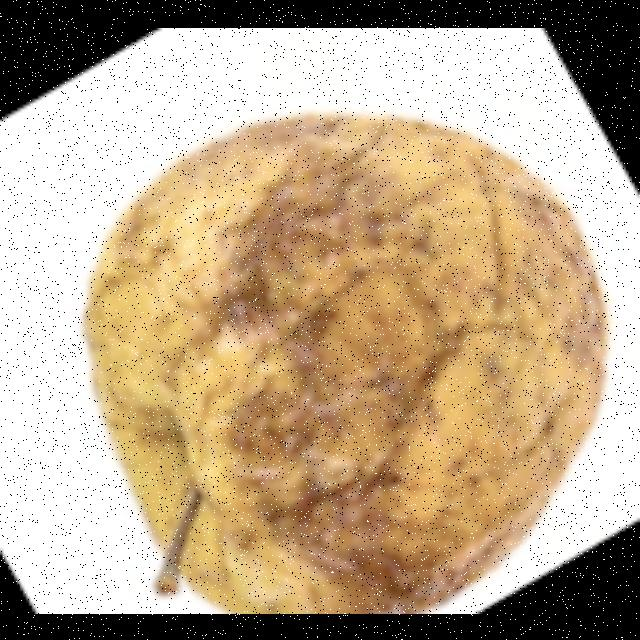Apel Tidak Segar: (80, 105, 610, 613)
